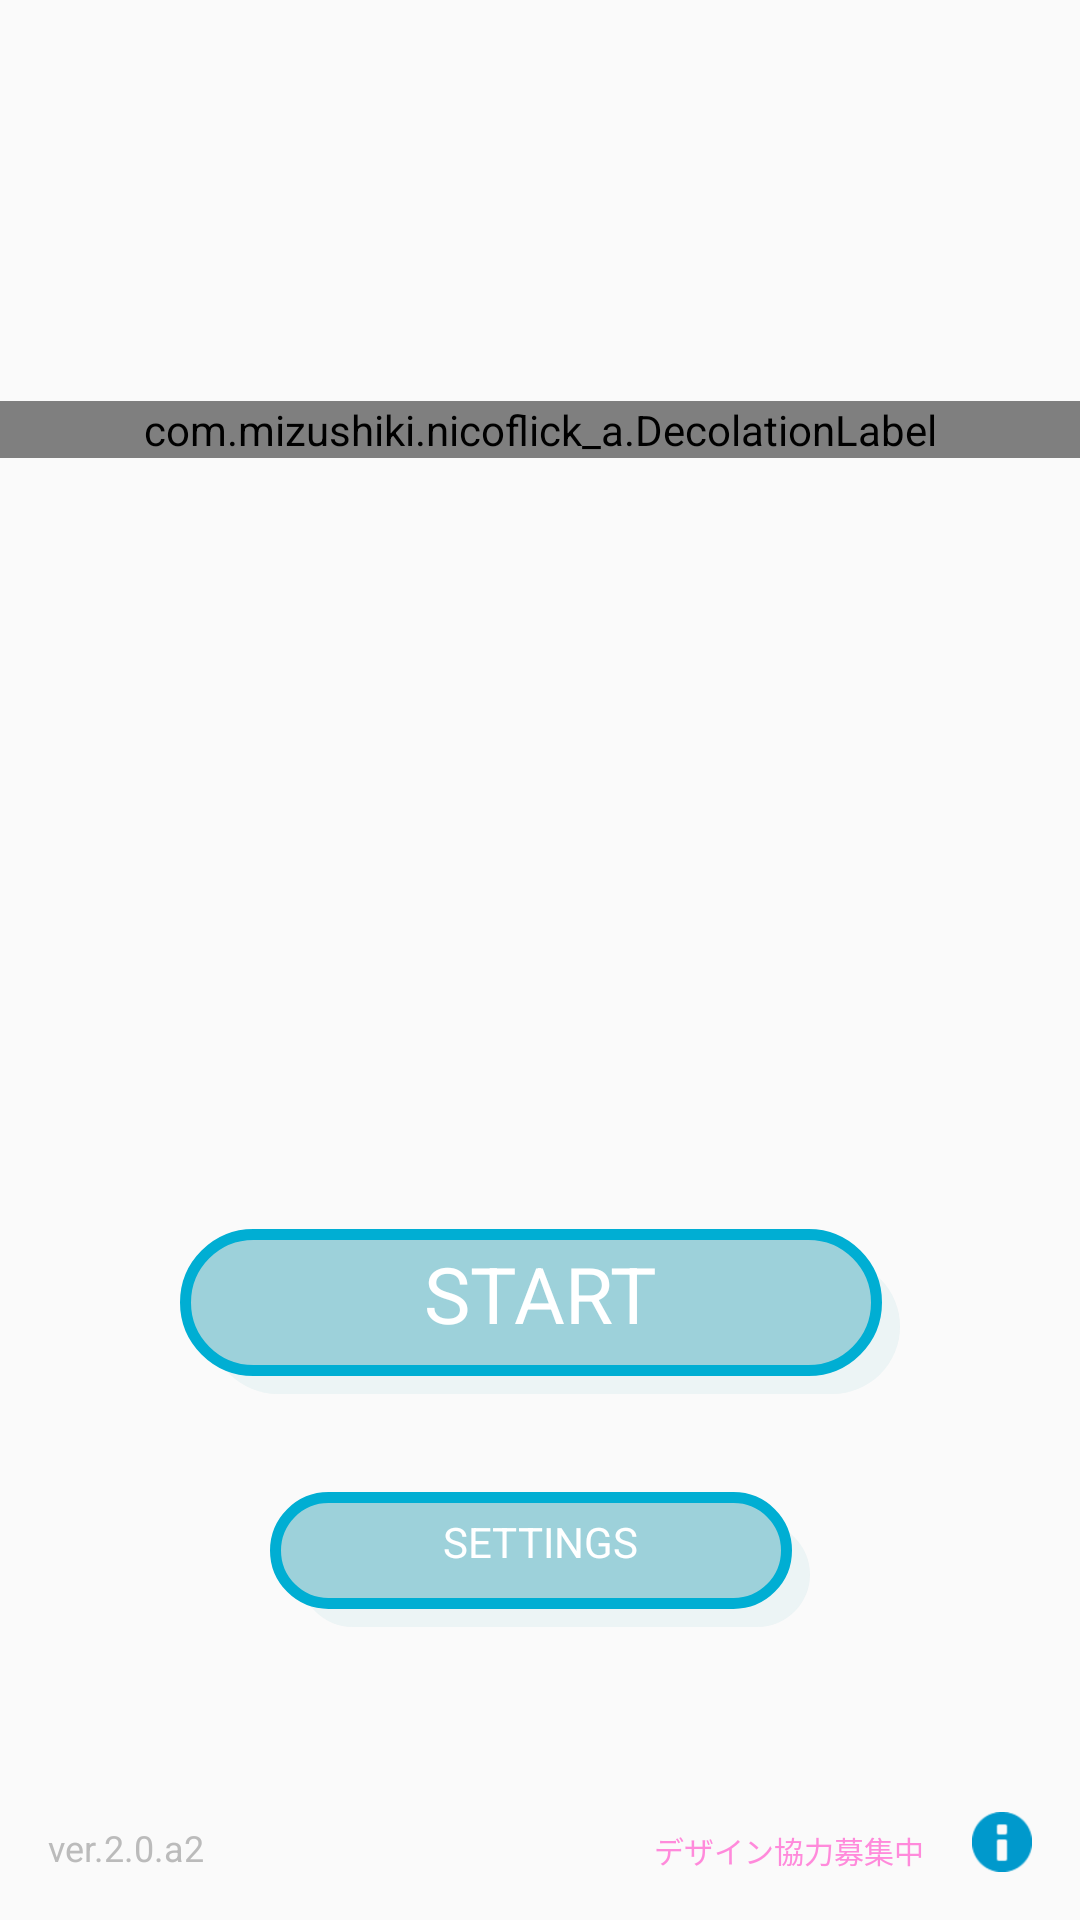

Point at icon controls on the screen. Image size 1080x1920, points as (x,y).
info: (1002,1842)
